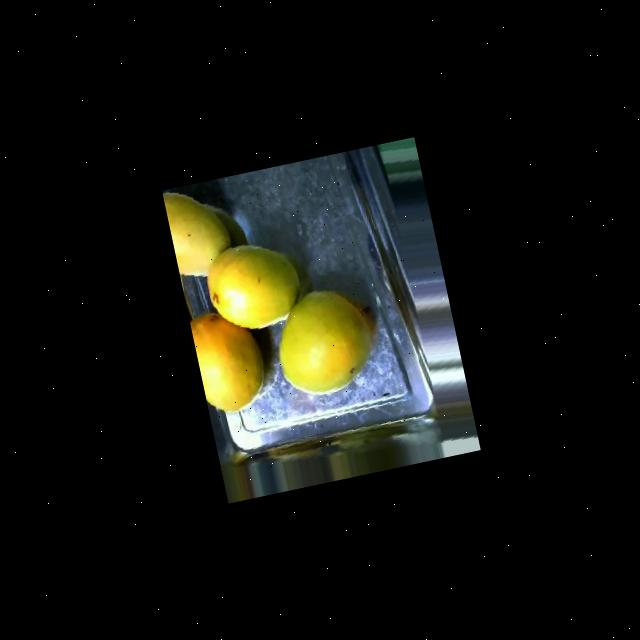Mango: (265, 280, 383, 402), (198, 235, 306, 339), (188, 305, 272, 417), (161, 180, 237, 281)
